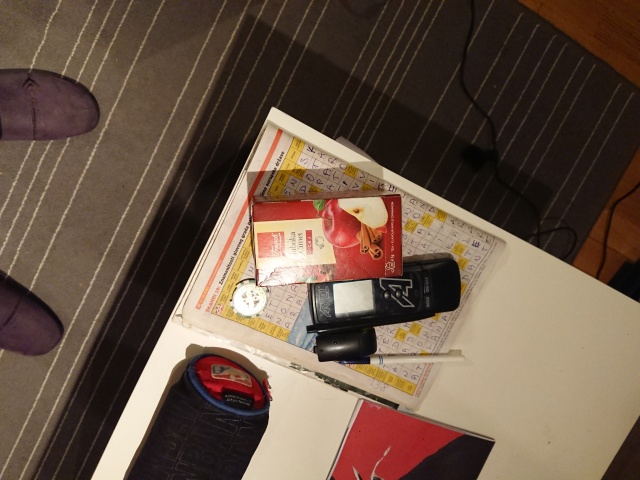Franck Apple Cinnamon Tea 60g: (246, 185, 406, 290)
